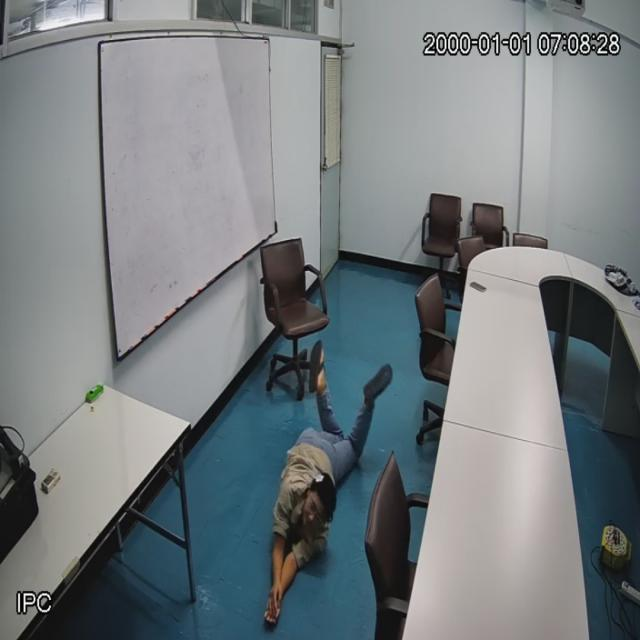fall: (262, 338, 373, 622)
